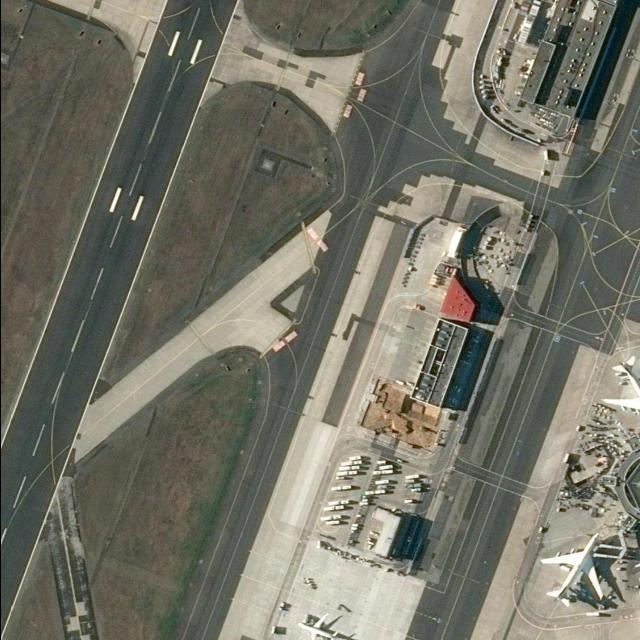Aircraft: (541, 533, 605, 610), (602, 358, 640, 436)
